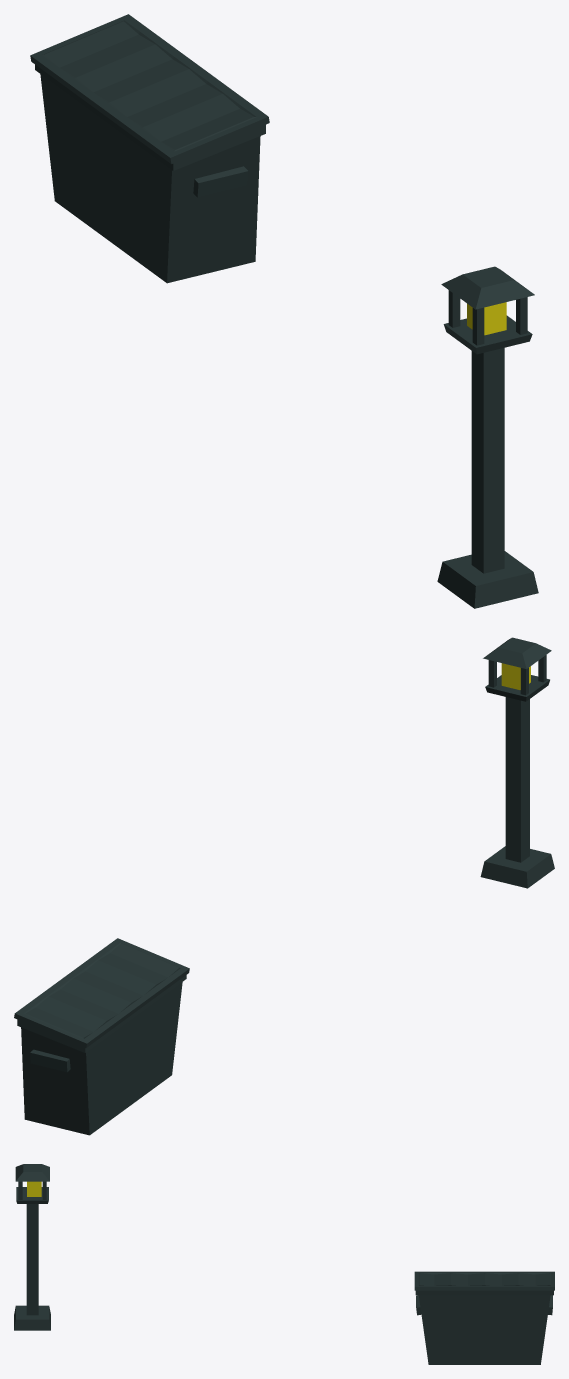
Rendered from LAMPARAYBASURA.fbx.
The picture shows the model from 3 angles, top to bottom: view 1: azimuth 30°, elevation 25°; view 2: azimuth 150°, elevation 25°; view 3: azimuth 270°, elevation 25°; orthographic projection. The views are drawn at different scales.
Visible parts, largest first — view 1: Cube.032, Cube.019, Cube.021, Cube.020; view 2: Cube.032, Cube.019, Cube.021; view 3: Cube.032, Cube.019.
Boxes of the visible parts, box(x1,y1,x2,y2) form: Cube.032: box(30, 14, 269, 283); Cube.019: box(437, 266, 538, 608); Cube.021: box(448, 290, 527, 345); Cube.020: box(467, 302, 506, 335); Cube.032: box(14, 938, 189, 1135); Cube.019: box(480, 637, 554, 888); Cube.021: box(488, 655, 546, 695); Cube.032: box(414, 1271, 554, 1364); Cube.019: box(14, 1164, 50, 1330).
Bounding box in the file's own units: 189 × 289 × 902.
